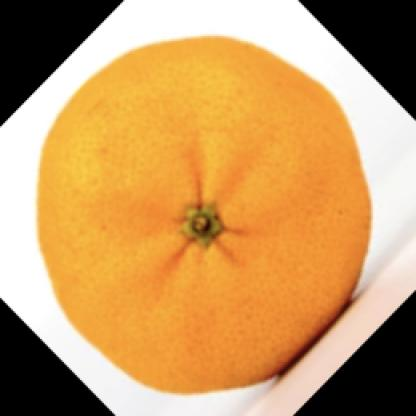fresh: (37, 36, 372, 395)
